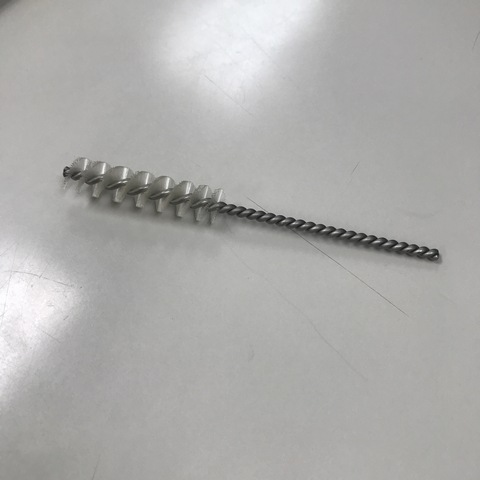Twist Brush-B: (56, 154, 443, 265)
